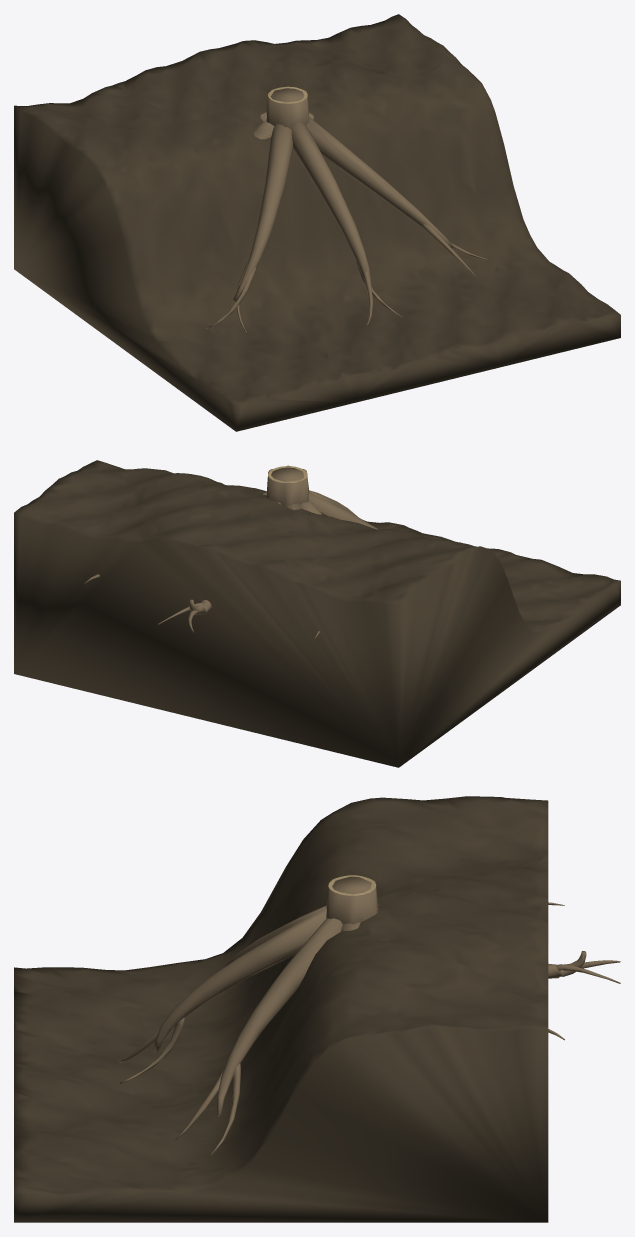
File: root-bearing-bank.lod1.glb
The picture shows the model from 3 angles, top to bottom: view 1: azimuth 30°, elevation 25°; view 2: azimuth 150°, elevation 25°; view 3: azimuth 270°, elevation 25°; orthographic projection. The views are drawn at different scales.
Parts seen in each view (by area): view 1: root-bearing-bank; view 2: root-bearing-bank; view 3: root-bearing-bank.
Boxes of the visible parts, x1,y1,x2,y2 form: root-bearing-bank: (14, 14, 620, 431); root-bearing-bank: (14, 460, 620, 767); root-bearing-bank: (14, 796, 620, 1222).
Size of the model in its own units: 3 by 1.39 by 3.41.
